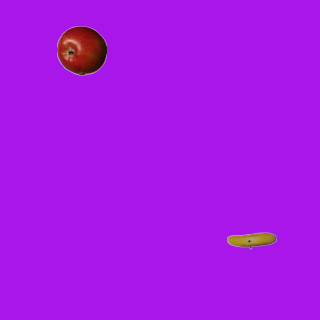Apple Braeburn: (56, 25, 106, 75)
Banana: (226, 215, 276, 265)
